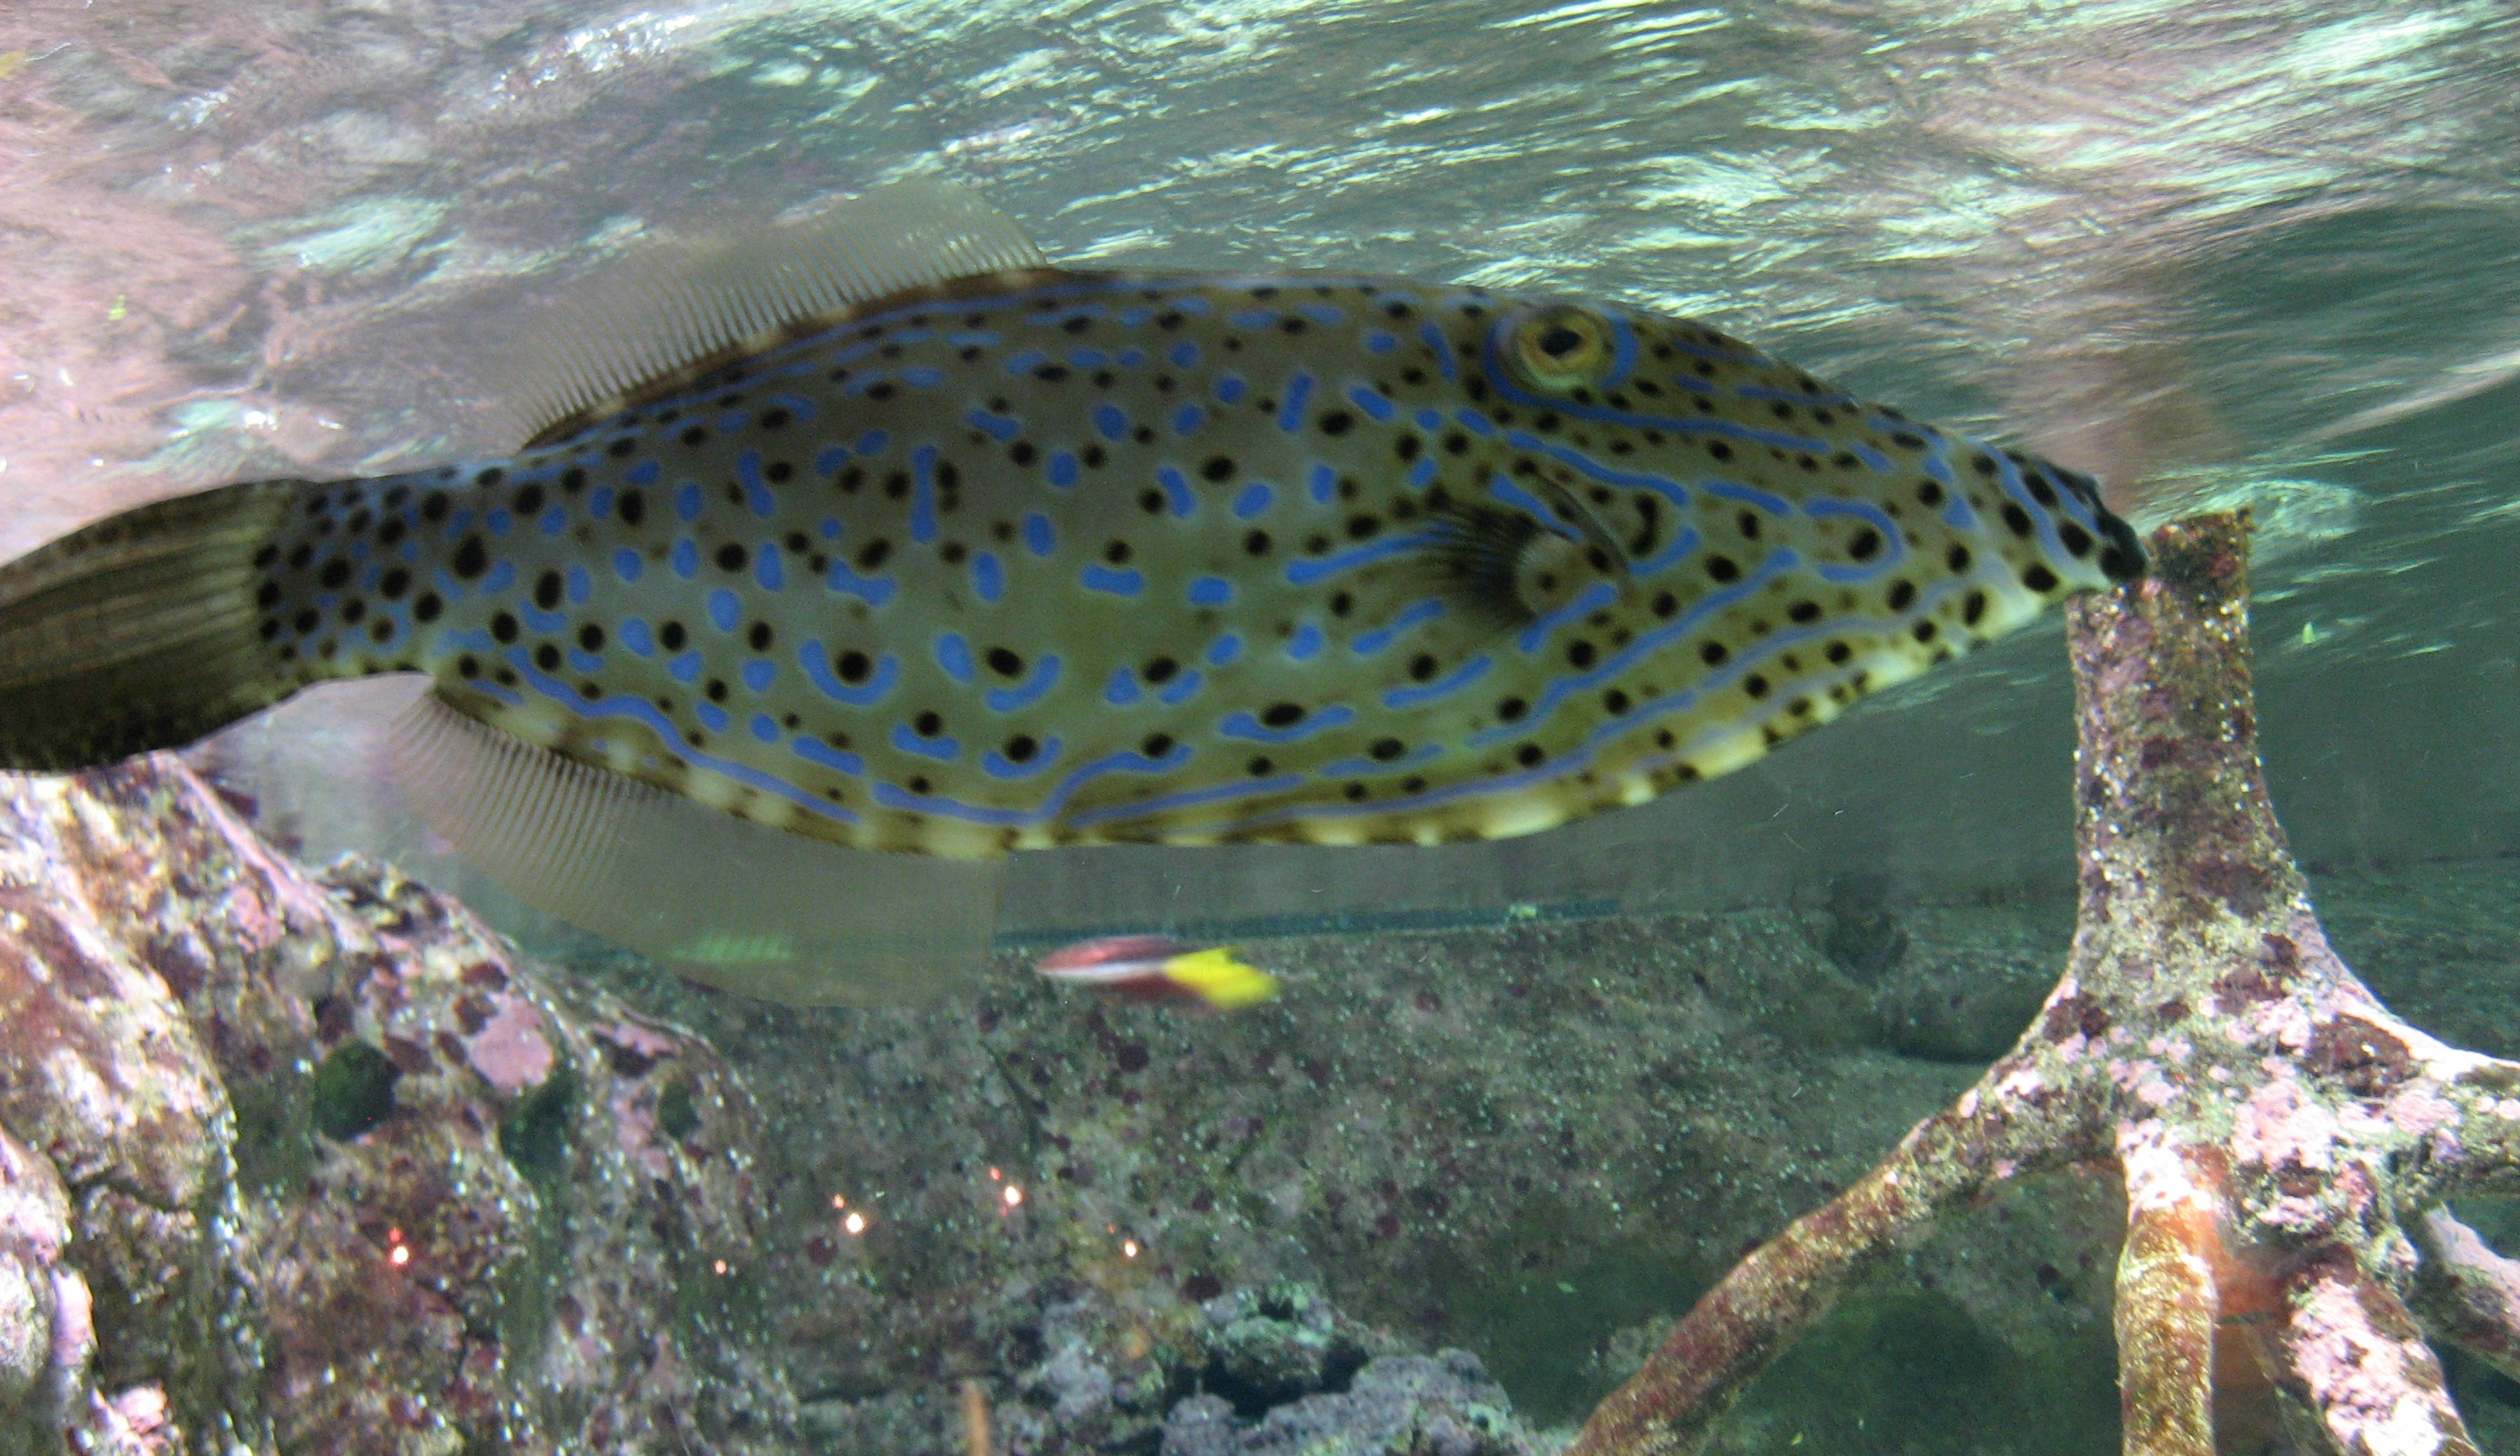Aluterus_scriptus: (3, 172, 2154, 985)
